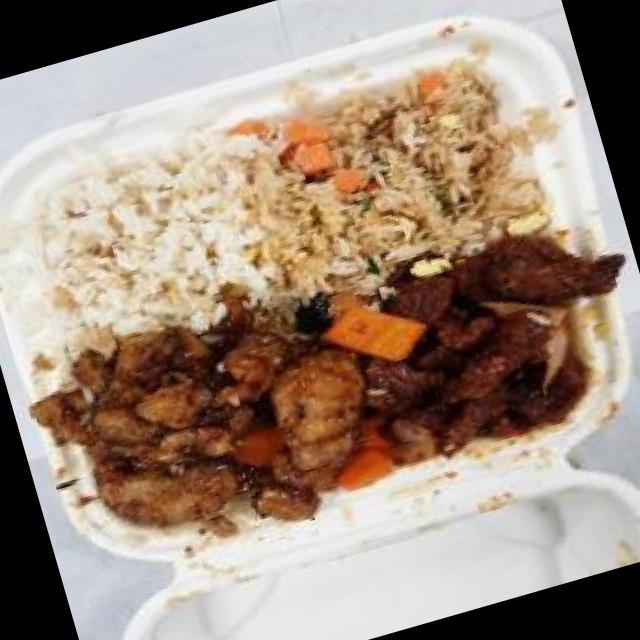Beijing Beef: (317, 209, 640, 487)
Fried Rice: (232, 41, 562, 306)
The Original Orange Chicken: (19, 277, 393, 584)
White Steamed Rice: (0, 119, 300, 369)
